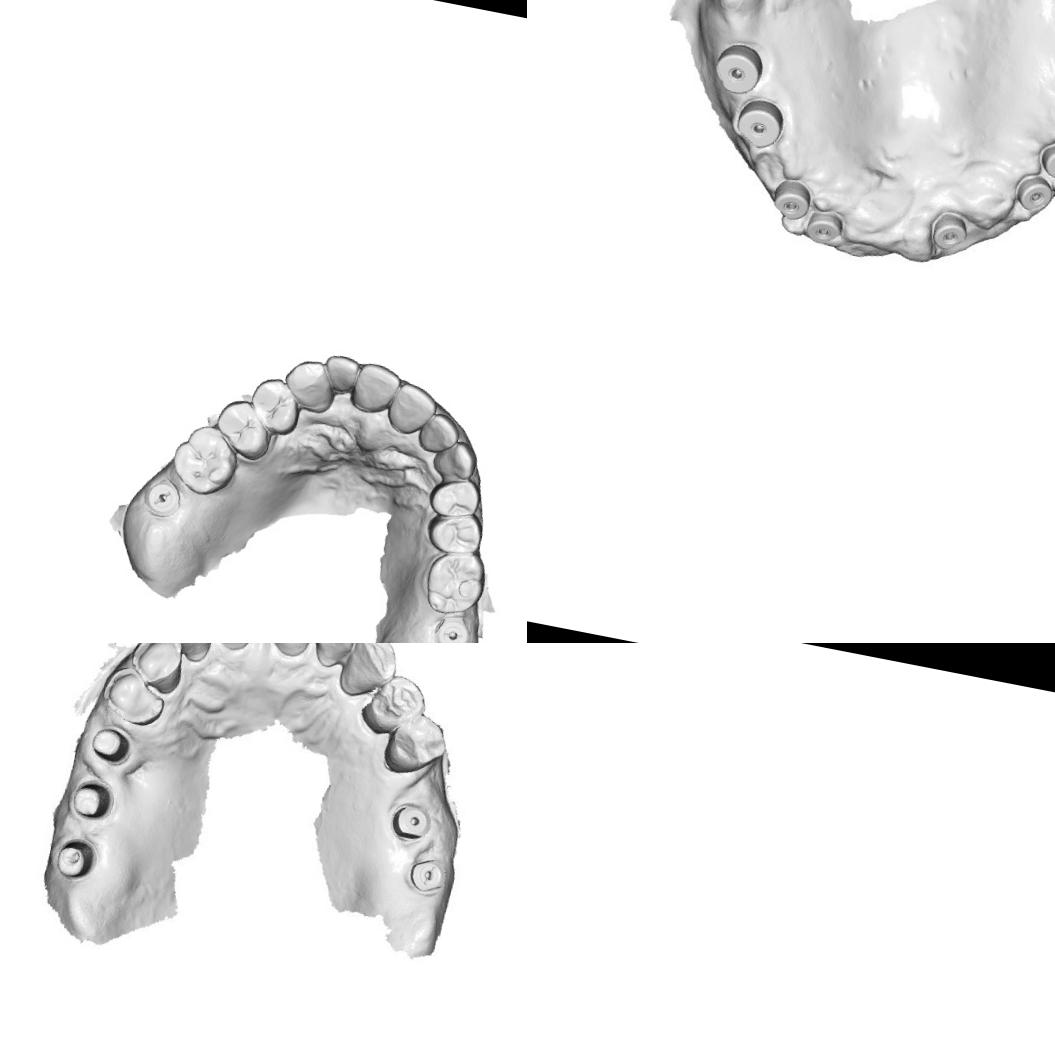abutment: (62, 773, 115, 824), (49, 834, 99, 886), (81, 722, 128, 766)
canine: (332, 643, 404, 705), (278, 354, 340, 415), (124, 643, 188, 697), (430, 436, 480, 482)
implant: (710, 38, 767, 98), (731, 93, 788, 152), (390, 794, 437, 846), (768, 176, 814, 223), (928, 208, 971, 253), (1012, 170, 1055, 214), (802, 206, 845, 248), (409, 854, 448, 895), (1036, 138, 1055, 181)
implant_minus: (140, 474, 186, 520), (428, 611, 475, 643)
incisor: (382, 379, 440, 439), (348, 360, 404, 418), (416, 408, 463, 456), (319, 351, 361, 397), (307, 643, 359, 670), (257, 643, 326, 660), (167, 643, 219, 665)
molar: (167, 418, 244, 500), (420, 544, 490, 621)
premolar: (354, 667, 432, 744), (381, 708, 452, 782), (208, 393, 277, 464), (99, 664, 172, 731), (243, 372, 306, 438), (423, 505, 486, 558), (425, 472, 484, 522)
